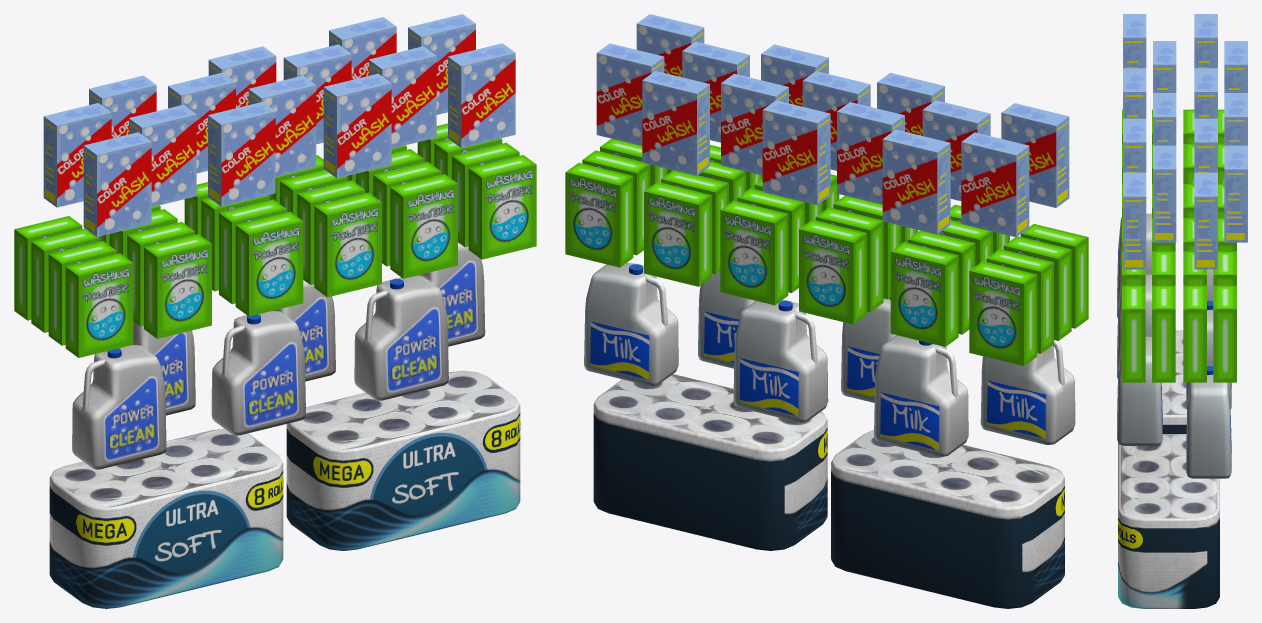
The model's file is CommFoodStuff01_1.FBX.
3 renders of one model, left to right at view 1: azimuth 30°, elevation 25°; view 2: azimuth 150°, elevation 25°; view 3: azimuth 270°, elevation 25°, orthographic. The views are drawn at different scales.
Visible parts, largest first — view 1: CommFoodStuff01_1; view 2: CommFoodStuff01_1; view 3: CommFoodStuff01_1.
Part boxes in pixels (x1,y1,x2,y2): CommFoodStuff01_1: (14, 14, 536, 608); CommFoodStuff01_1: (565, 14, 1088, 608); CommFoodStuff01_1: (1117, 14, 1247, 608).
Size of what is drawn, in the model's own units: 1.85 by 1.77 by 0.5134.
